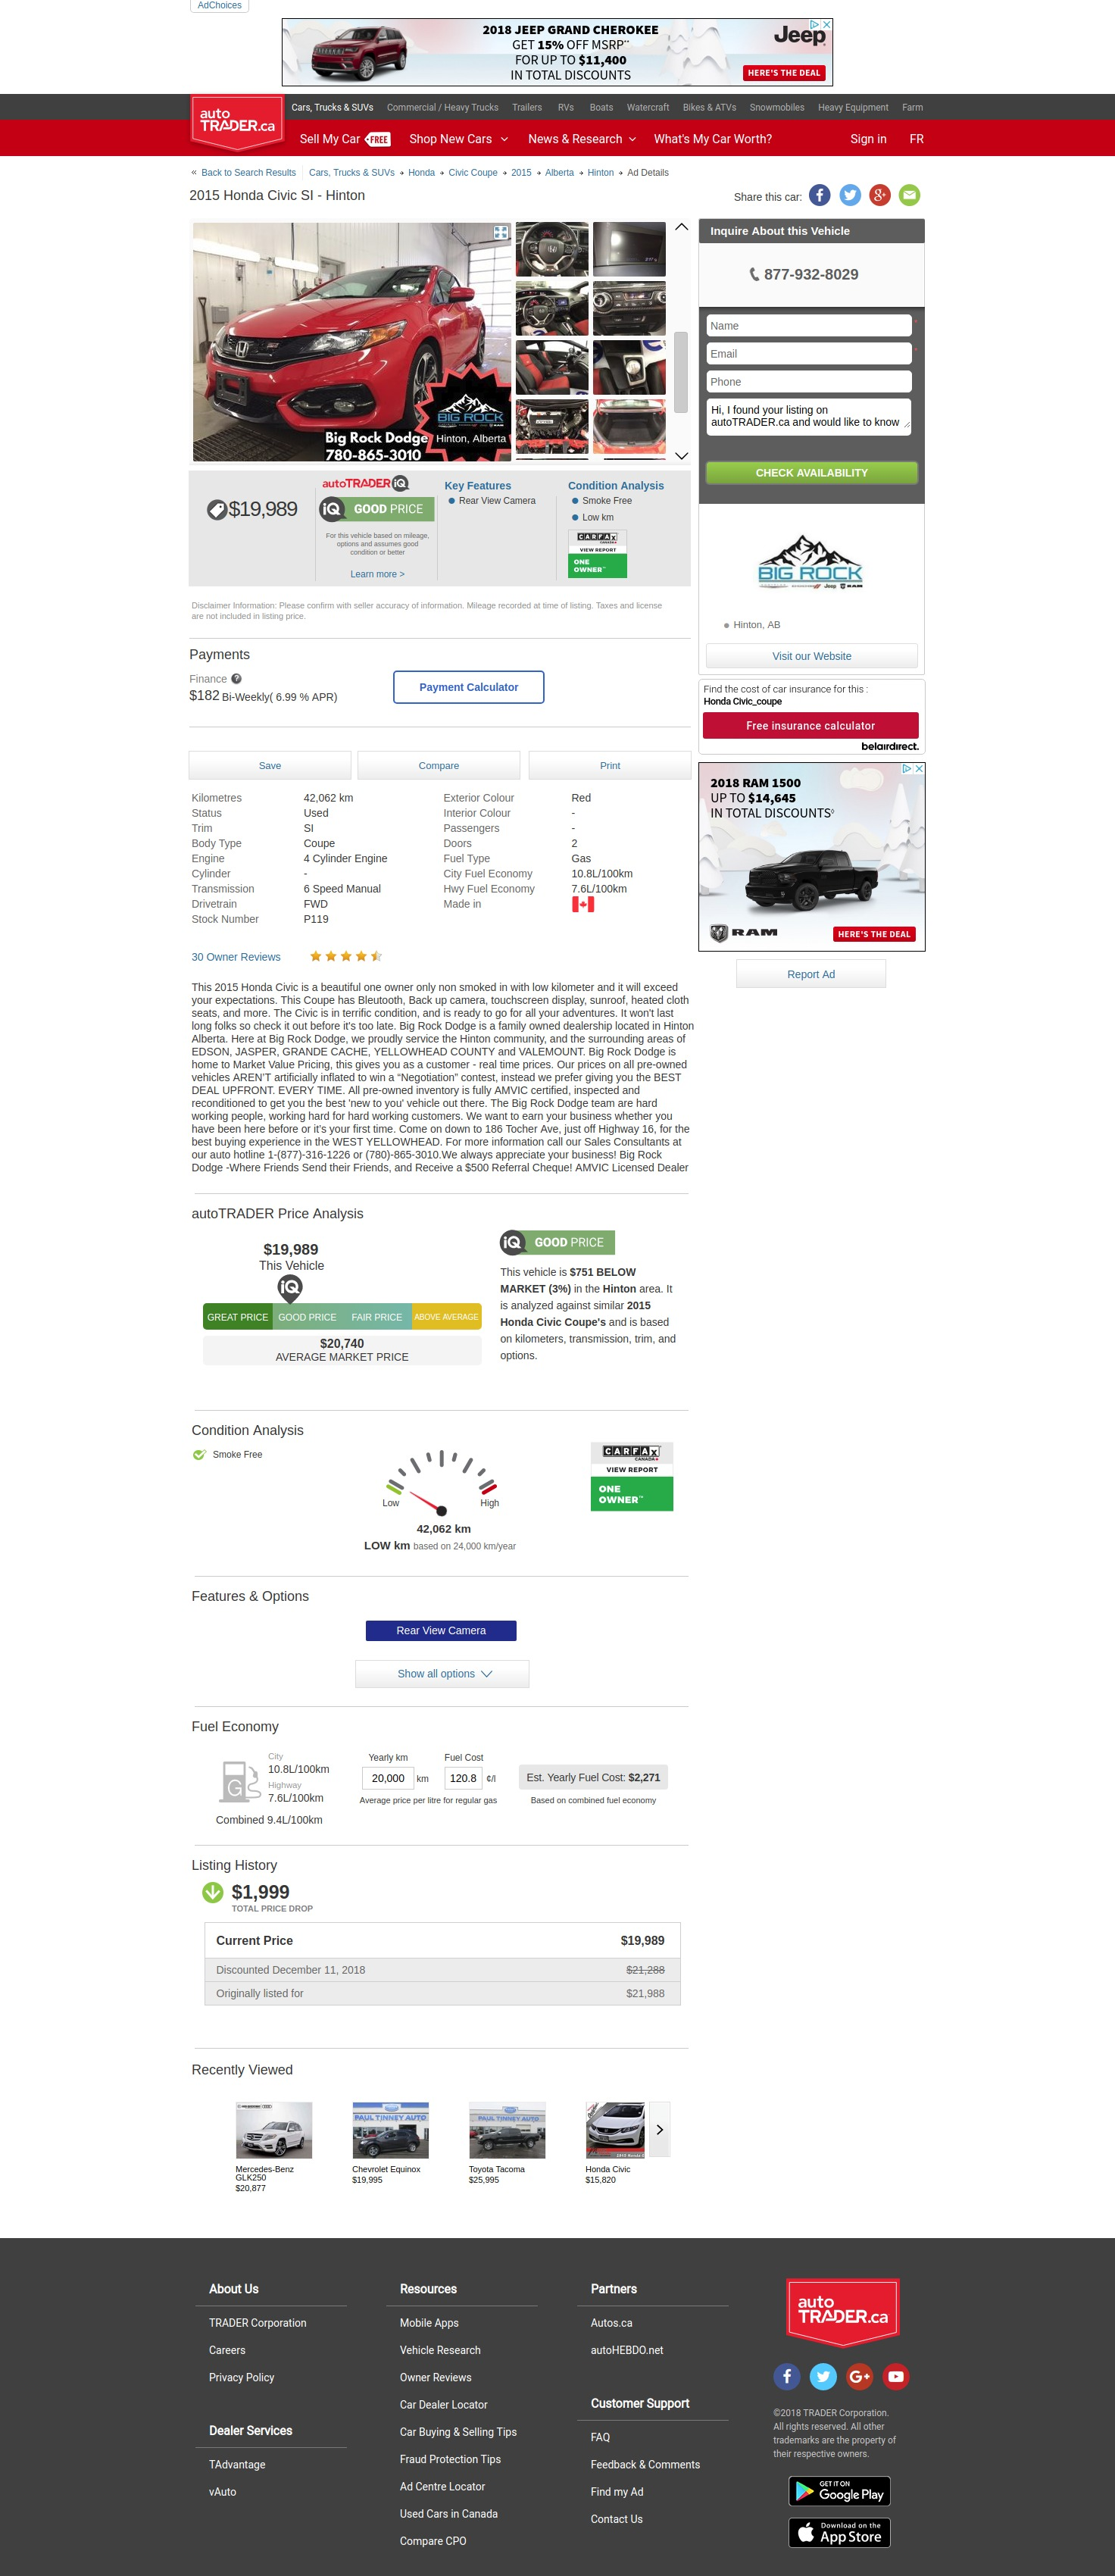car: (675, 450, 690, 462)
